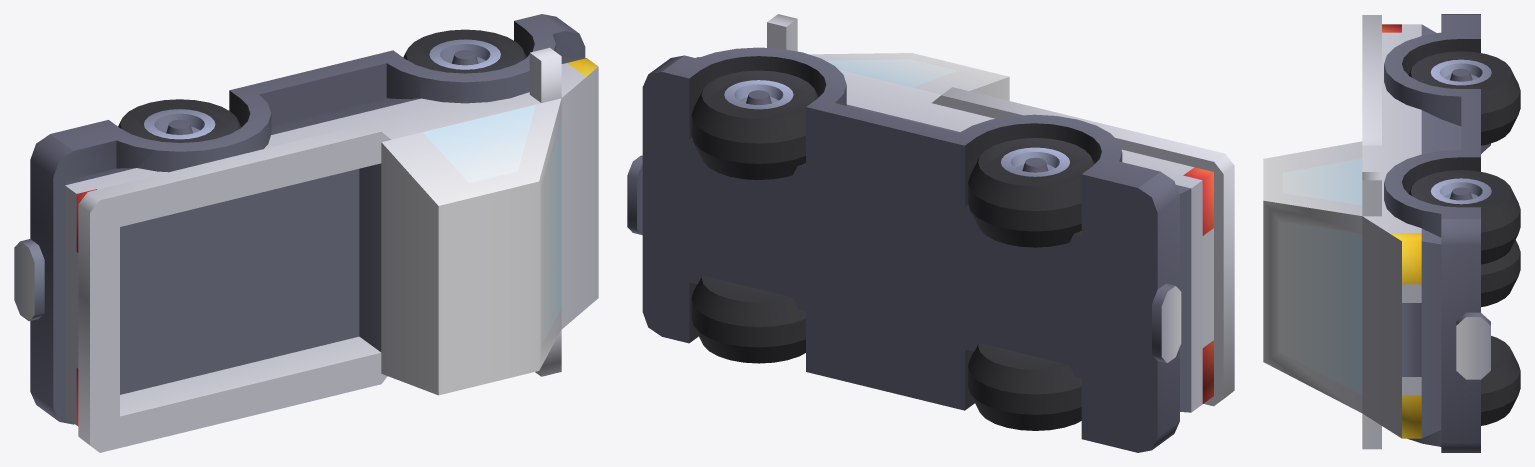
The model's file is truck-flat.glb.
The picture shows the model from 3 angles, left to right: view 1: azimuth 30°, elevation 25°; view 2: azimuth 150°, elevation 25°; view 3: azimuth 270°, elevation 25°; orthographic projection. The views are drawn at different scales.
Visible parts, largest first — view 1: body, wheel-front-left, wheel-back-left; view 2: body, wheel-front-left, wheel-back-left, wheel-front-right, wheel-back-right; view 3: body, wheel-back-left, wheel-front-left, wheel-front-right, wheel-back-right.
Boxes of the visible parts, box(x1,y1,x2,y2) form: body: box(14, 14, 598, 452); wheel-front-left: box(403, 29, 526, 73); wheel-back-left: box(118, 99, 241, 142); body: box(627, 14, 1234, 452); wheel-front-left: box(691, 70, 818, 179); wheel-back-left: box(968, 138, 1094, 247); wheel-front-right: box(691, 275, 805, 363); wheel-back-right: box(968, 343, 1081, 430); body: box(1263, 14, 1490, 452); wheel-back-left: box(1408, 51, 1520, 145); wheel-front-left: box(1408, 170, 1520, 264); wheel-front-right: box(1481, 336, 1520, 425); wheel-back-right: box(1481, 240, 1520, 306).
Size of the model in its own units: 2.75 by 1.5 by 1.3.
1 material, 1 textured.
